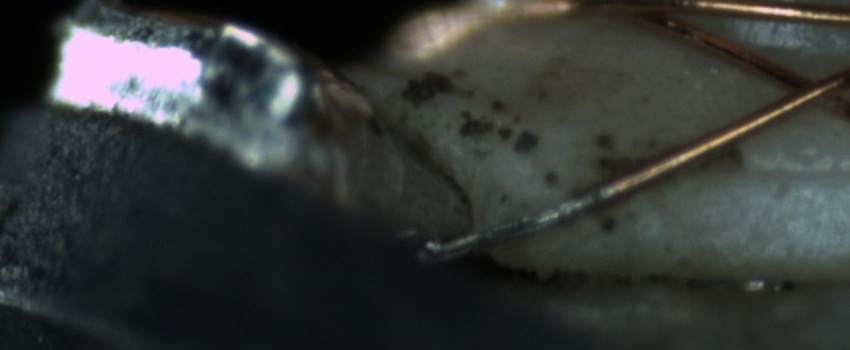CL: (764, 59, 846, 119)
DL: (704, 139, 849, 200)
TS: (415, 185, 616, 263)
